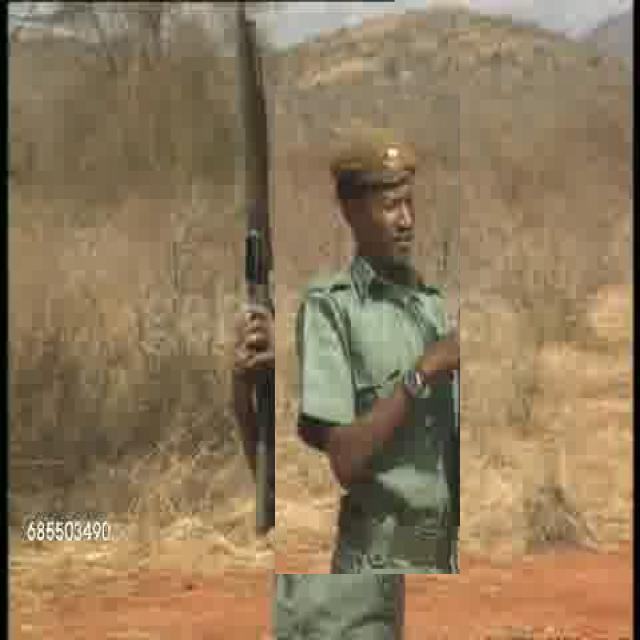poacher: (275, 94, 460, 574)
weapon: (238, 1, 274, 522)
